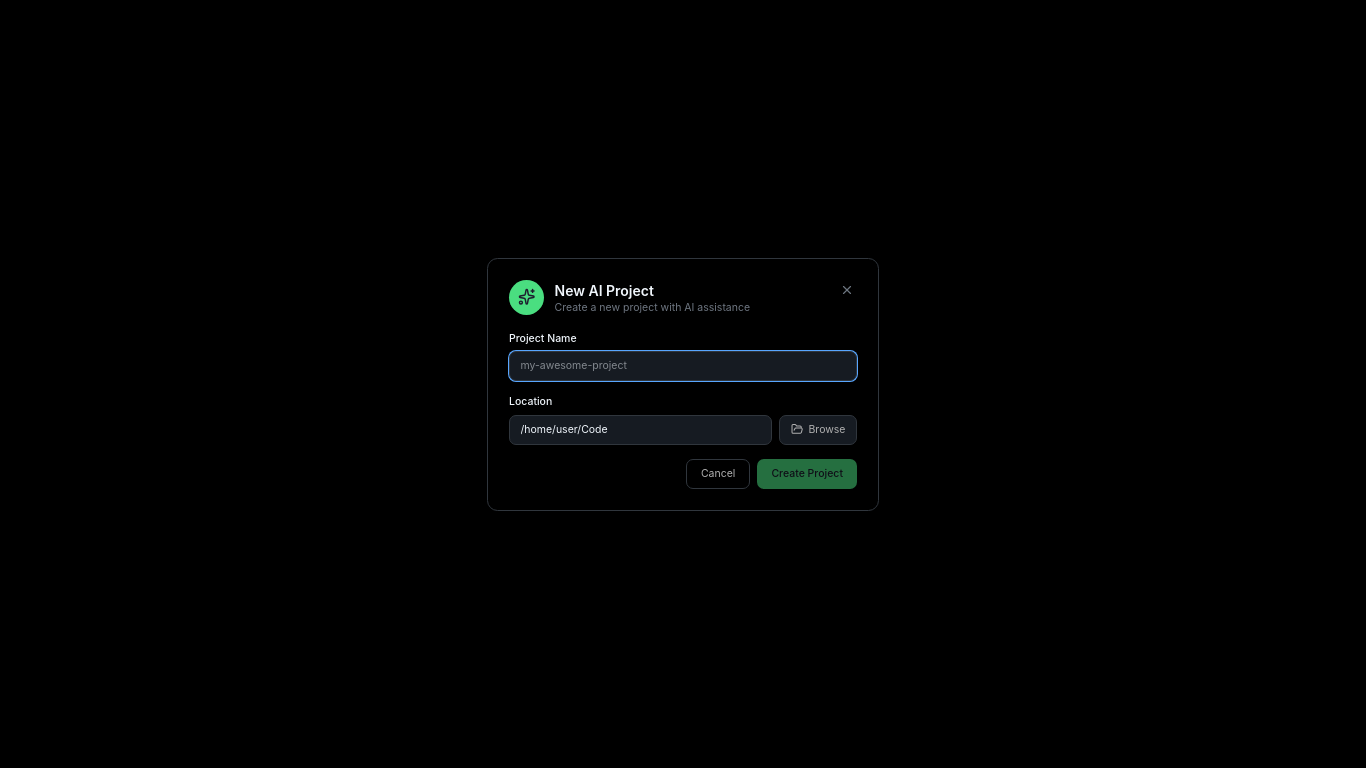
Test: NewProjectDialog › shows loading state while creating
Check: the field with placeholder "~/Code" holds "/home/user/Code", box [509, 414, 772, 444]
Type "Test" into the field with placeholder "my-awesome-project" at (683, 366), box [509, 351, 857, 381]
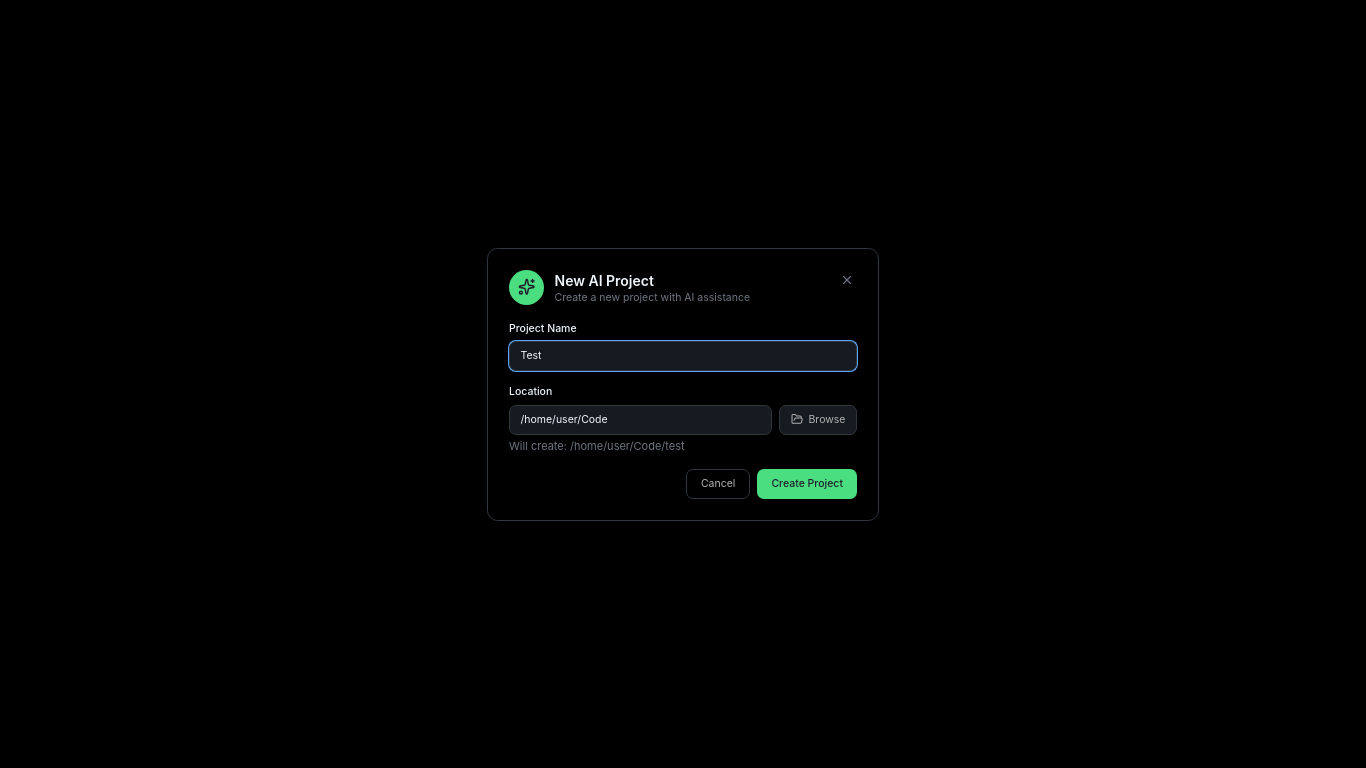
Click the button "Create Project" at (807, 484), box [757, 468, 857, 498]
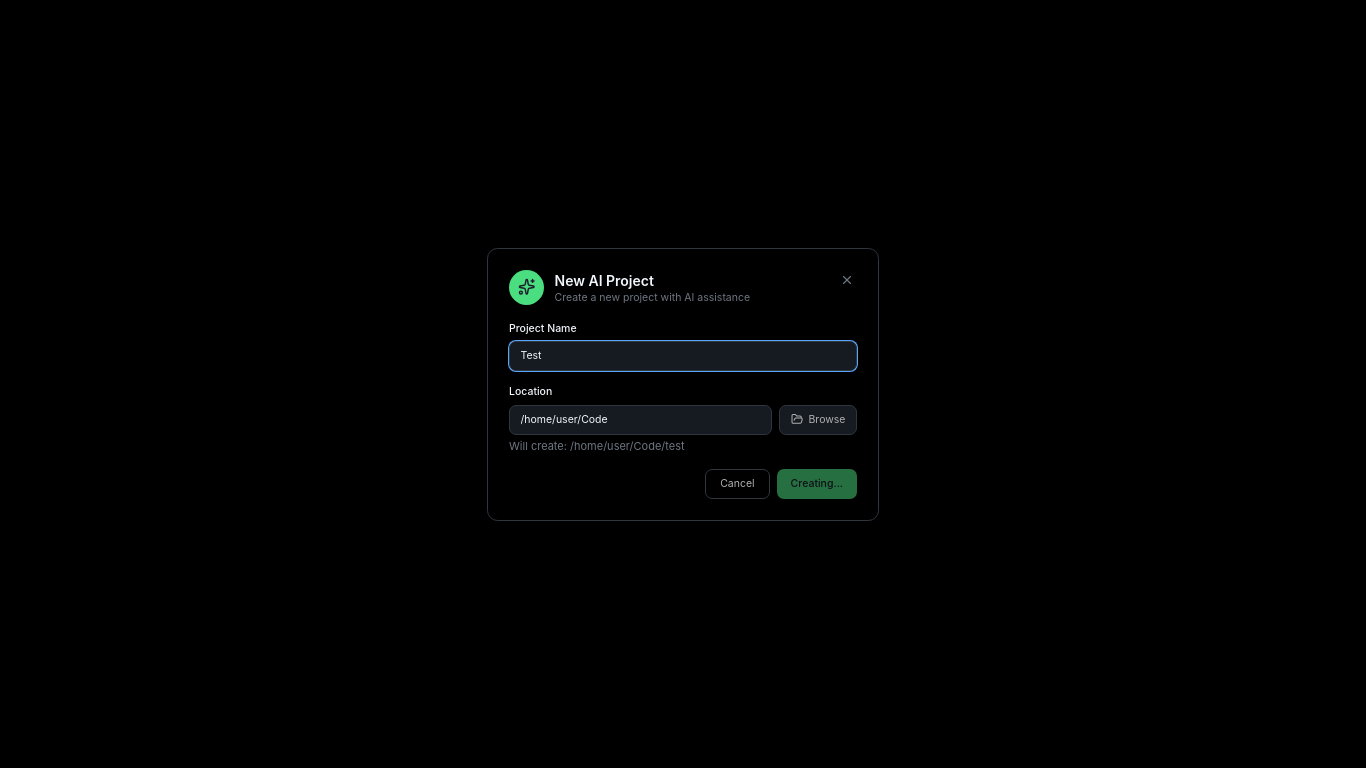
Check: the button "Creating..." is disabled, box [777, 468, 857, 498]
